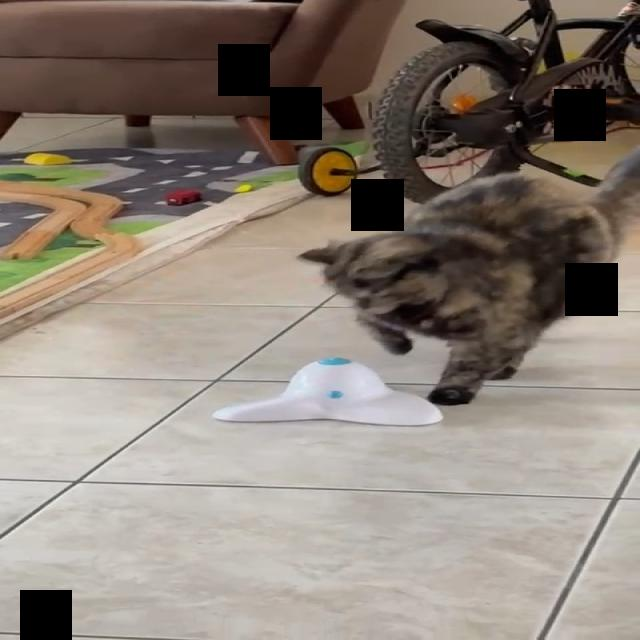authorized: (297, 145, 639, 405)
